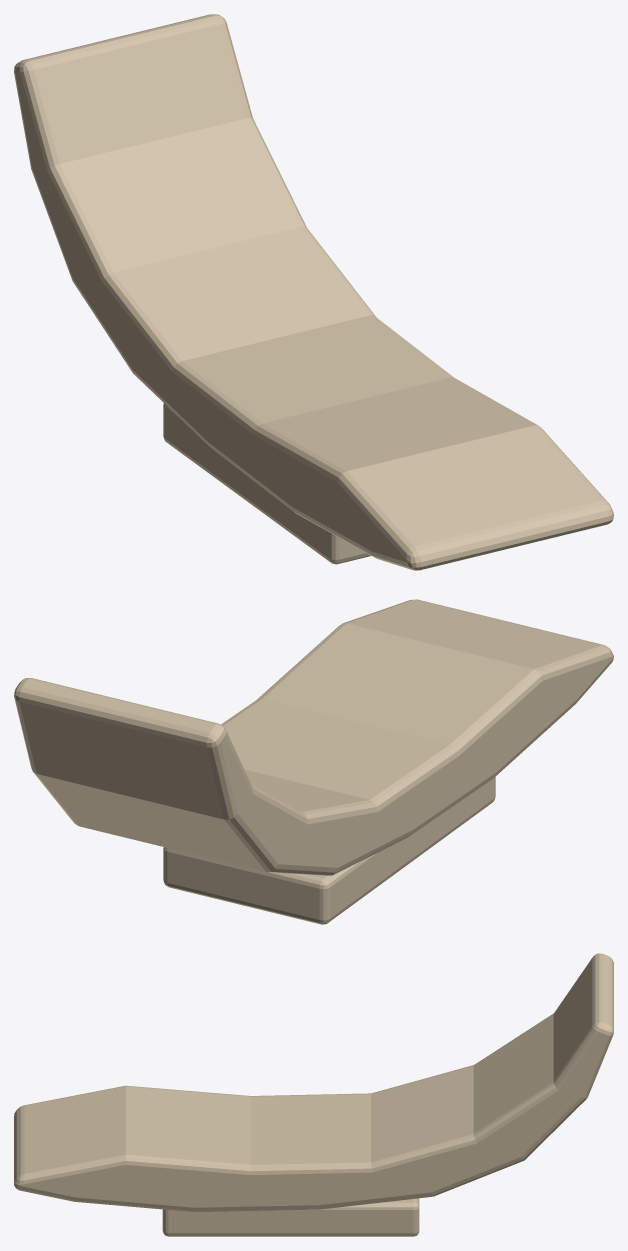
File: stone-lounger.glb
The picture shows the model from 3 angles, top to bottom: view 1: azimuth 30°, elevation 25°; view 2: azimuth 150°, elevation 25°; view 3: azimuth 270°, elevation 25°; orthographic projection. The views are drawn at different scales.
Visible parts, largest first — view 1: lounger_body, lounger_plinth; view 2: lounger_body, lounger_plinth; view 3: lounger_body, lounger_plinth.
Part boxes in pixels (x1,y1,x2,y2): lounger_body: [14, 14, 613, 570]; lounger_plinth: [163, 403, 370, 564]; lounger_body: [14, 599, 613, 875]; lounger_plinth: [163, 777, 495, 924]; lounger_body: [14, 953, 613, 1212]; lounger_plinth: [162, 1198, 419, 1236].
Size of the model in its own units: 0.62 by 0.8518 by 2.1.
